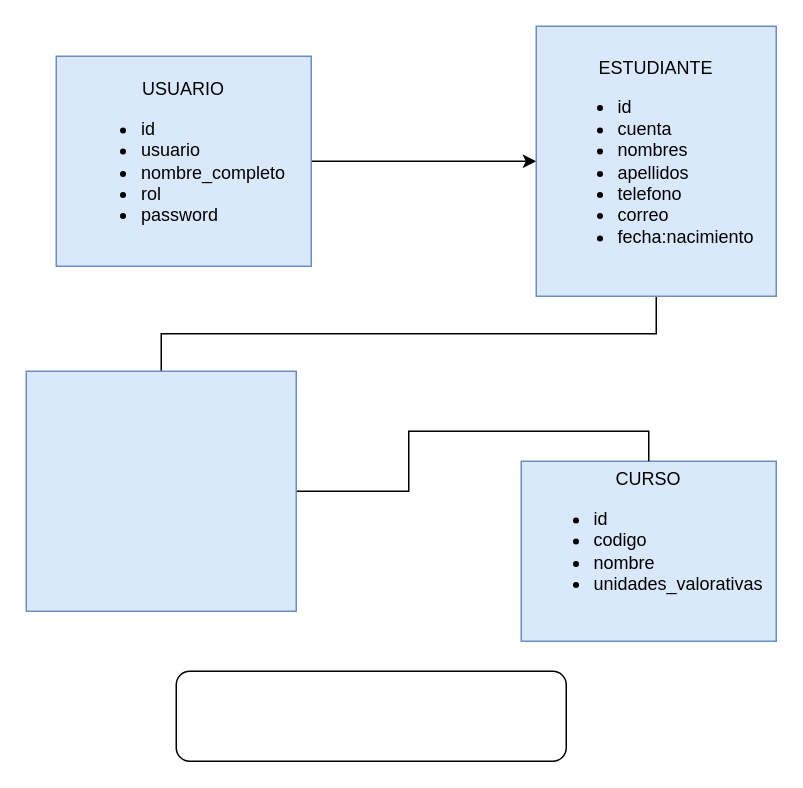
This 803x788 diagram has some shape labels left out. The shapes that lost their labels are listed below. From the top down, each one's box as (x1, y1, x2, y2) in pixels, then its label:
(25, 370, 296, 611): MATRÍCULA id id_estudiante fecha_matricula seccion_id estado id_curso
(175, 670, 566, 761): Karen Saraí Zavala Velásquez
